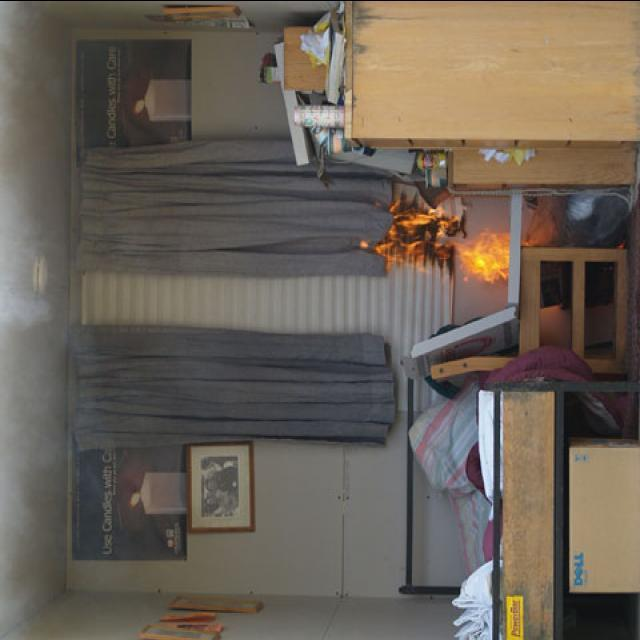Fire: (365, 183, 539, 299)
